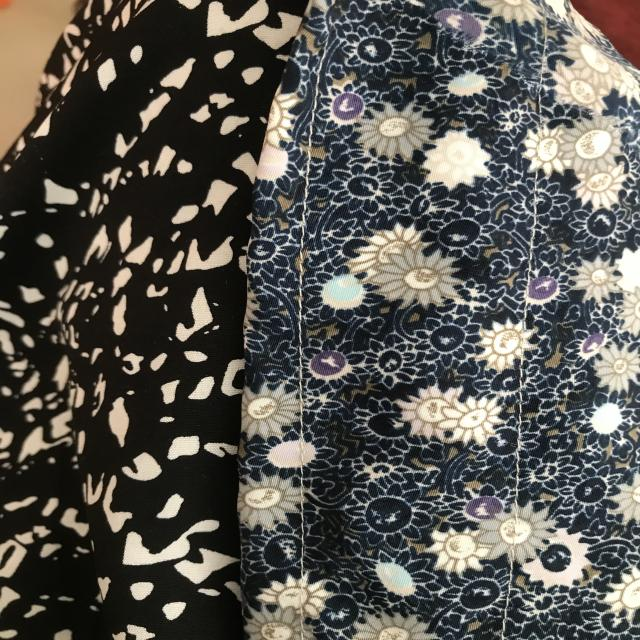good: (286, 282, 319, 380), (508, 375, 530, 496)
